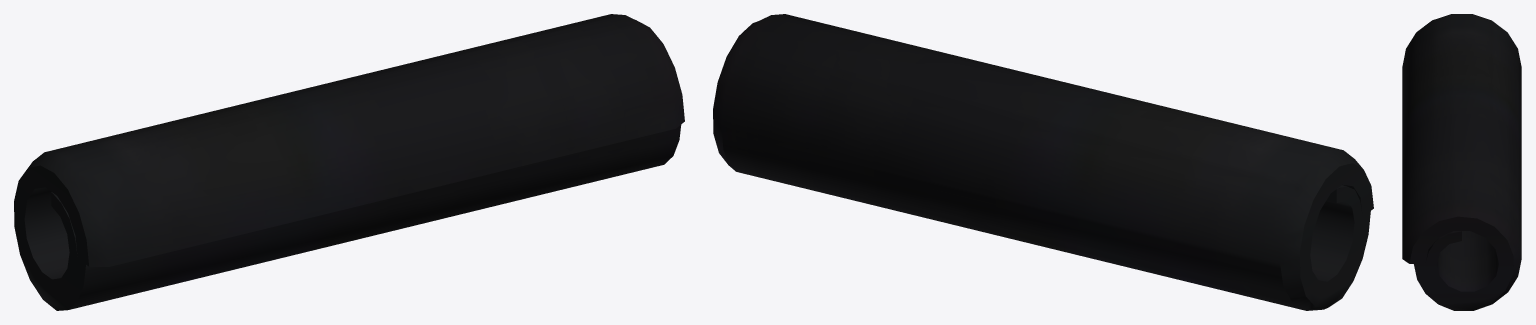
The model's file is Spring_Pin1.dae.
3 views of the same model, side by side, from view 1: azimuth 30°, elevation 25°; view 2: azimuth 150°, elevation 25°; view 3: azimuth 270°, elevation 25° (orthographic). The views are drawn at different scales.
Visible parts, largest first — view 1: Spring_Pin1; view 2: Spring_Pin1; view 3: Spring_Pin1.
Boxes of the visible parts, x1,y1,x2,y2 form: Spring_Pin1: (14,14,684,310); Spring_Pin1: (713,14,1373,310); Spring_Pin1: (1402,14,1521,310).
Bounding box in the file's own units: 0.0124 × 0.0031 × 0.00291.
Materials: 1 (1 with a texture image).
